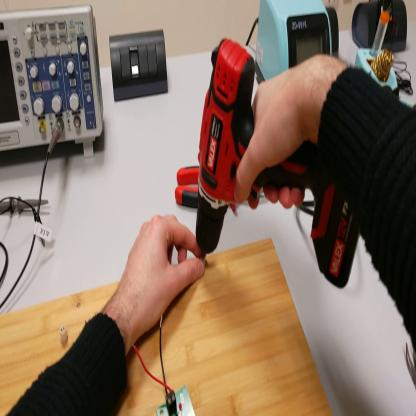electric screwdriver: (196, 35, 360, 291)
hand: (234, 55, 343, 211), (118, 216, 205, 334)
high voltage board: (131, 316, 195, 415)
oscilloscope: (2, 4, 105, 164)
oscilloscope probe tip: (2, 196, 52, 217)
pliers: (175, 168, 200, 209), (406, 339, 416, 382)
socket: (354, 1, 409, 53), (326, 7, 341, 57)
welder base: (356, 9, 402, 103)
working area: (1, 236, 335, 415)
